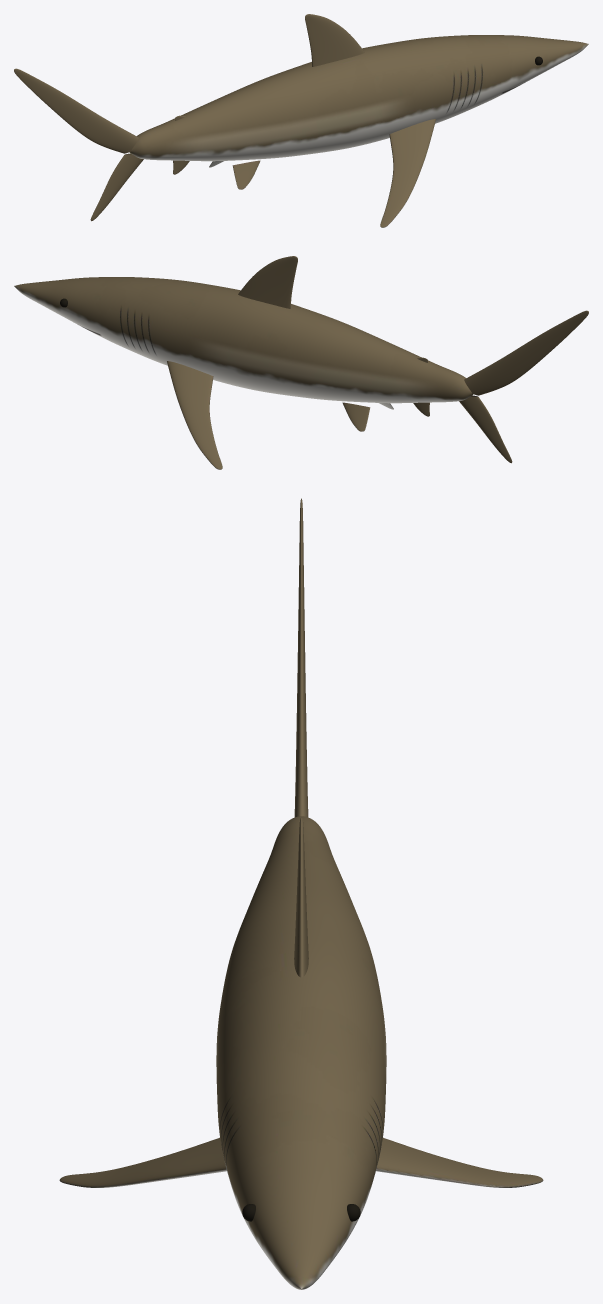
File: bronzeWhaler.glb
The picture shows the model from 3 angles, top to bottom: view 1: azimuth 30°, elevation 25°; view 2: azimuth 150°, elevation 25°; view 3: azimuth 270°, elevation 25°; orthographic projection. The views are drawn at different scales.
Visible parts, largest first — view 1: skin; view 2: skin; view 3: skin.
Part boxes in pixels (<box>): skin: <box>14,14,588,227</box>; skin: <box>14,256,588,469</box>; skin: <box>59,498,543,1289</box>.
Size of the model in its own units: 4.01 by 1.27 by 1.46.
Materials: 1 (1 with a texture image).
